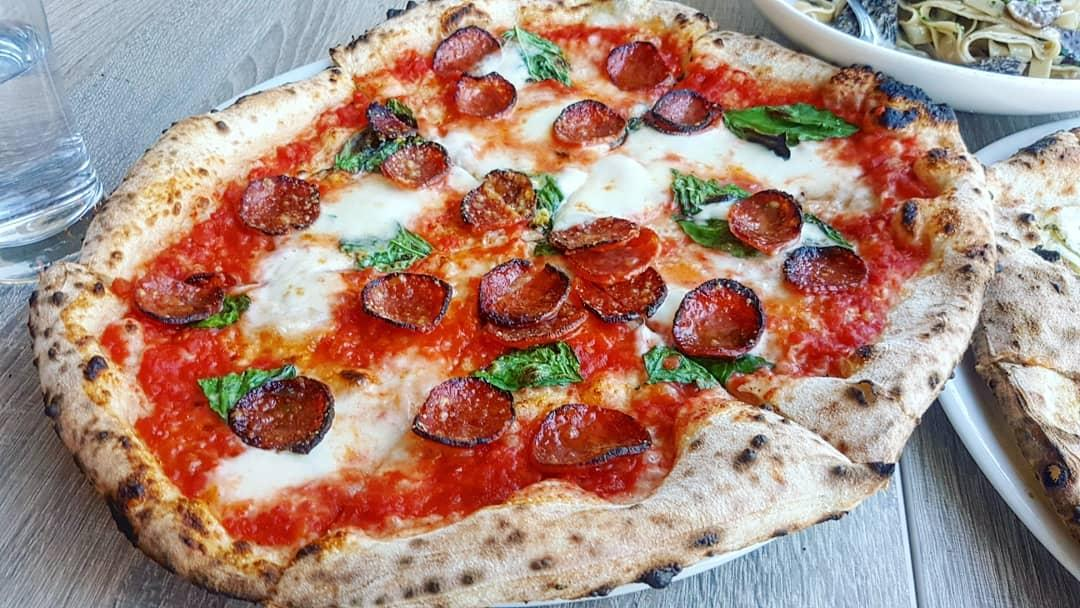Basil: (670, 169, 758, 258), (720, 95, 864, 140), (639, 345, 776, 392), (471, 342, 588, 390), (204, 362, 298, 418), (501, 24, 571, 86), (334, 230, 431, 270), (335, 134, 400, 174), (201, 287, 252, 332), (530, 172, 566, 233), (800, 210, 851, 247)
Cheese: (570, 138, 705, 210), (727, 142, 836, 195), (466, 120, 547, 169), (269, 259, 325, 316), (339, 192, 400, 230)
Pepperoni: (230, 377, 336, 453), (532, 402, 654, 467), (417, 377, 515, 447), (362, 270, 456, 337), (680, 280, 764, 353), (568, 227, 660, 286), (131, 269, 225, 325), (482, 259, 566, 321), (240, 173, 323, 231), (581, 268, 667, 323), (781, 247, 870, 293), (735, 190, 799, 247), (604, 40, 671, 91), (549, 215, 639, 252), (555, 99, 623, 146), (386, 141, 452, 184), (455, 71, 515, 117), (431, 27, 497, 66), (647, 93, 713, 132)
Pizza: (25, 0, 996, 608)
